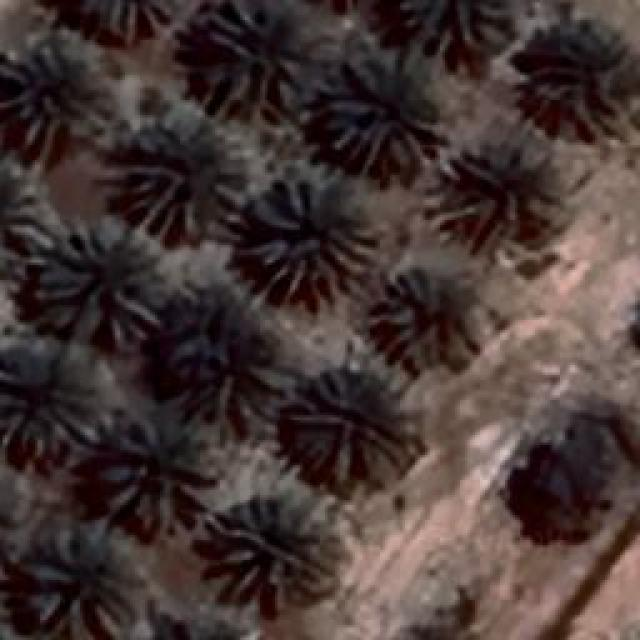PalmTree: (242, 162, 380, 308), (30, 218, 168, 348), (123, 108, 250, 242), (318, 47, 440, 175), (99, 88, 586, 119), (290, 358, 412, 480), (100, 410, 220, 532), (205, 490, 330, 605), (2, 29, 116, 152), (430, 142, 552, 255), (25, 520, 140, 638), (370, 260, 485, 370), (168, 301, 272, 421), (195, 0, 308, 110), (0, 345, 102, 460), (21, 119, 99, 213), (398, 0, 512, 55), (142, 611, 264, 640), (92, 0, 178, 40), (140, 621, 262, 640)
